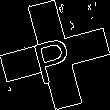P_N: (31, 26, 79, 84)
